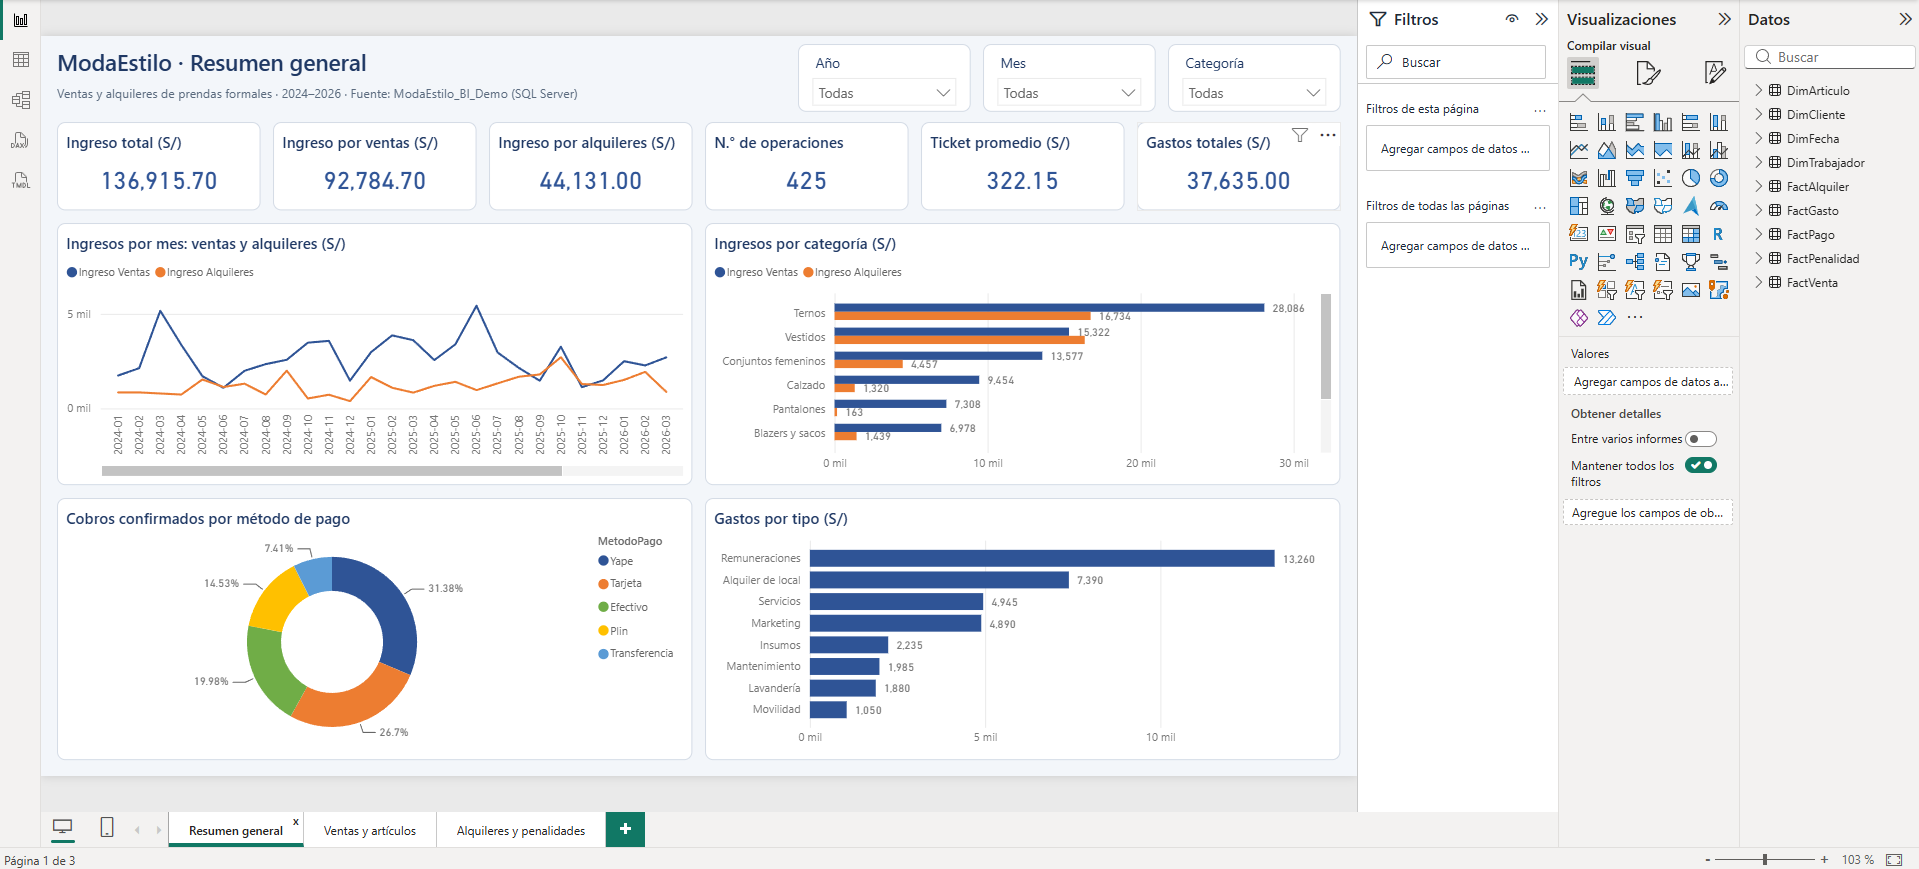

Layout of this report page (visuals, bound fields, positions):
{"tool":"powerbi","page":{"name":"Resumen general","canvas":[1280,720],"ordinal":0},"visuals":[{"type":"textbox","box":[16,10,720,36],"z":1000},{"type":"textbox","box":[16,46,720,22],"z":2000},{"type":"slicer","fields":{"Values":["DimFecha.Anio"]},"box":[736,8,168,66],"z":3000},{"type":"slicer","fields":{"Values":["DimFecha.MesNombre"]},"box":[916,8,168,66],"z":4000},{"type":"slicer","fields":{"Values":["DimArticulo.Categoria"]},"box":[1096,8,168,66],"z":5000},{"type":"card","title":"Ingreso total (S/)","fields":{"Values":["FactVenta.Ingreso Total"]},"box":[16,84,198,86],"z":6000},{"type":"card","title":"Ingreso por ventas (S/)","fields":{"Values":["FactVenta.Ingreso Ventas"]},"box":[226,84,198,86],"z":7000},{"type":"card","title":"Ingreso por alquileres (S/)","fields":{"Values":["FactAlquiler.Ingreso Alquileres"]},"box":[436,84,198,86],"z":8000},{"type":"card","title":"N.° de operaciones","fields":{"Values":["FactVenta.Número de Operaciones"]},"box":[646,84,198,86],"z":9000},{"type":"card","title":"Ticket promedio (S/)","fields":{"Values":["FactVenta.Ticket Promedio"]},"box":[856,84,198,86],"z":10000},{"type":"card","title":"Gastos totales (S/)","fields":{"Values":["FactGasto.Gastos Totales"]},"box":[1066,84,198,86],"z":11000},{"type":"lineChart","title":"Ingresos por mes: ventas y alquileres (S/)","fields":{"Category":["DimFecha.AnioMes"],"Y":["FactVenta.Ingreso Ventas","FactAlquiler.Ingreso Alquileres"]},"box":[16,182,618,255],"z":12000},{"type":"clusteredBarChart","title":"Ingresos por categoría (S/)","fields":{"Category":["DimArticulo.Categoria"],"Y":["FactVenta.Ingreso Ventas","FactAlquiler.Ingreso Alquileres"]},"box":[646,182,618,255],"z":13000},{"type":"donutChart","title":"Cobros confirmados por método de pago","fields":{"Category":["FactPago.MetodoPago"],"Y":["FactPago.Cobros Confirmados"]},"box":[16,449,618,255],"z":14000},{"type":"clusteredBarChart","title":"Gastos por tipo (S/)","fields":{"Category":["FactGasto.TipoGasto"],"Y":["FactGasto.Gastos Totales"]},"box":[646,449,618,255],"z":15000}]}

Visuals, with their boxes on the page's 1280x720 design canvas (x1, y1, x2, y2). These are canvas units, not pixel positions in the 1919x869 screenshot, which may show the page scaled, cropped or inside an application window:
textbox: [x1=16, y1=10, x2=736, y2=46]
textbox: [x1=16, y1=46, x2=736, y2=68]
slicer - DimFecha.Anio: [x1=736, y1=8, x2=904, y2=74]
slicer - DimFecha.MesNombre: [x1=916, y1=8, x2=1084, y2=74]
slicer - DimArticulo.Categoria: [x1=1096, y1=8, x2=1264, y2=74]
"Ingreso total (S/)" card: [x1=16, y1=84, x2=214, y2=170]
"Ingreso por ventas (S/)" card: [x1=226, y1=84, x2=424, y2=170]
"Ingreso por alquileres (S/)" card: [x1=436, y1=84, x2=634, y2=170]
"N.° de operaciones" card: [x1=646, y1=84, x2=844, y2=170]
"Ticket promedio (S/)" card: [x1=856, y1=84, x2=1054, y2=170]
"Gastos totales (S/)" card: [x1=1066, y1=84, x2=1264, y2=170]
"Ingresos por mes: ventas y alquileres (S/)" lineChart: [x1=16, y1=182, x2=634, y2=437]
"Ingresos por categoría (S/)" clusteredBarChart: [x1=646, y1=182, x2=1264, y2=437]
"Cobros confirmados por método de pago" donutChart: [x1=16, y1=449, x2=634, y2=704]
"Gastos por tipo (S/)" clusteredBarChart: [x1=646, y1=449, x2=1264, y2=704]
